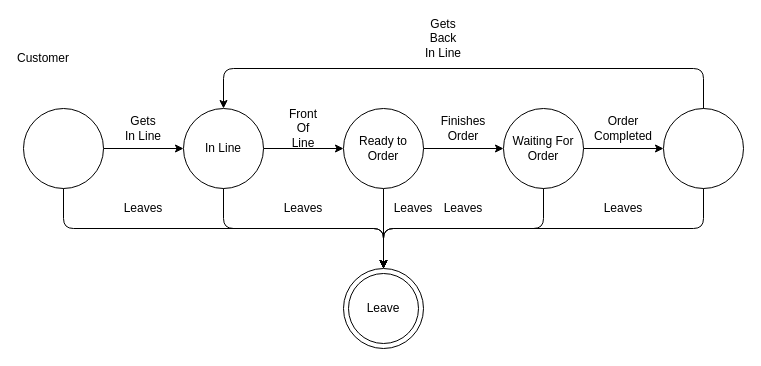
This 761x366 diagram has some shape labels left out. Each missing label, with the centre of its shape:
"Enters Store" belongs at point 63,148.
"Pick Up Order" belongs at point 703,148.
